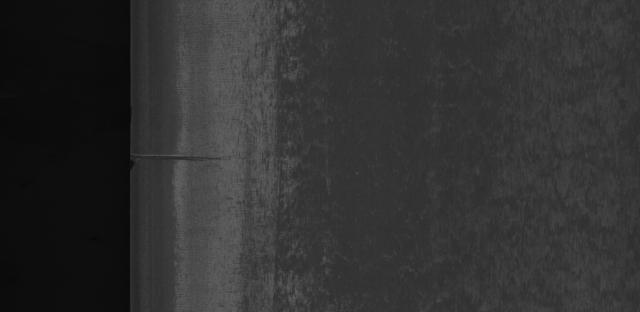crease: (130, 148, 240, 173)
silk_spot: (275, 9, 625, 305)
